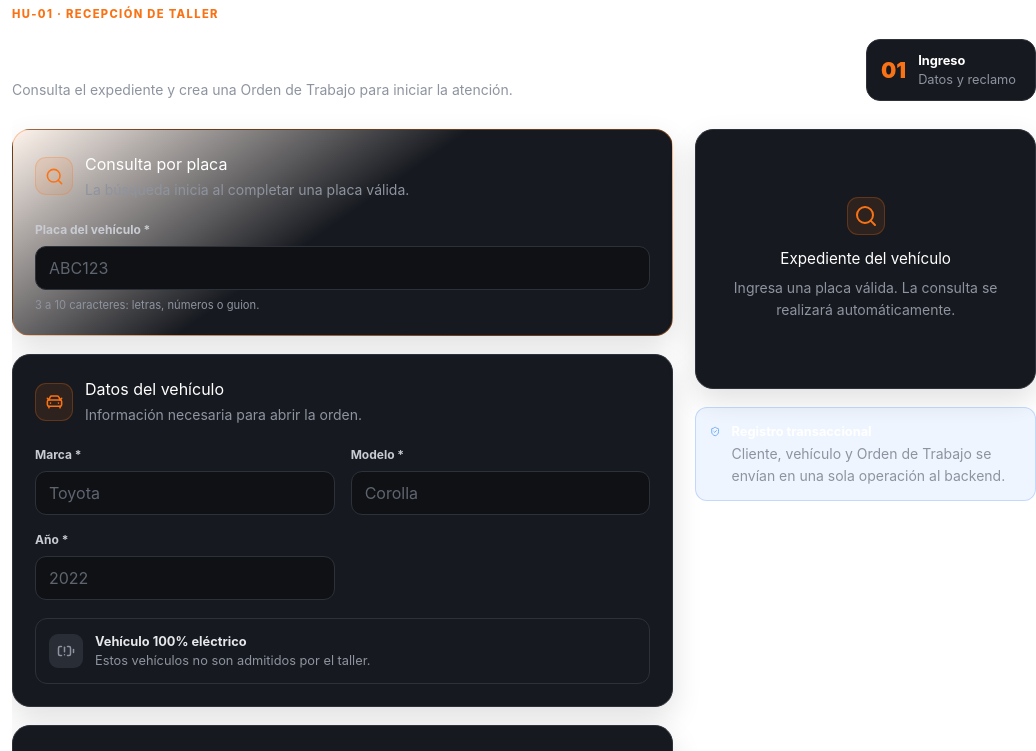
it: VehicleReceptionPage › searches, autocompletes vehicle and customer data, and shows history
Type "abc123" into the field labelled "Placa del vehículo *" at (343, 268), box [35, 246, 650, 290]
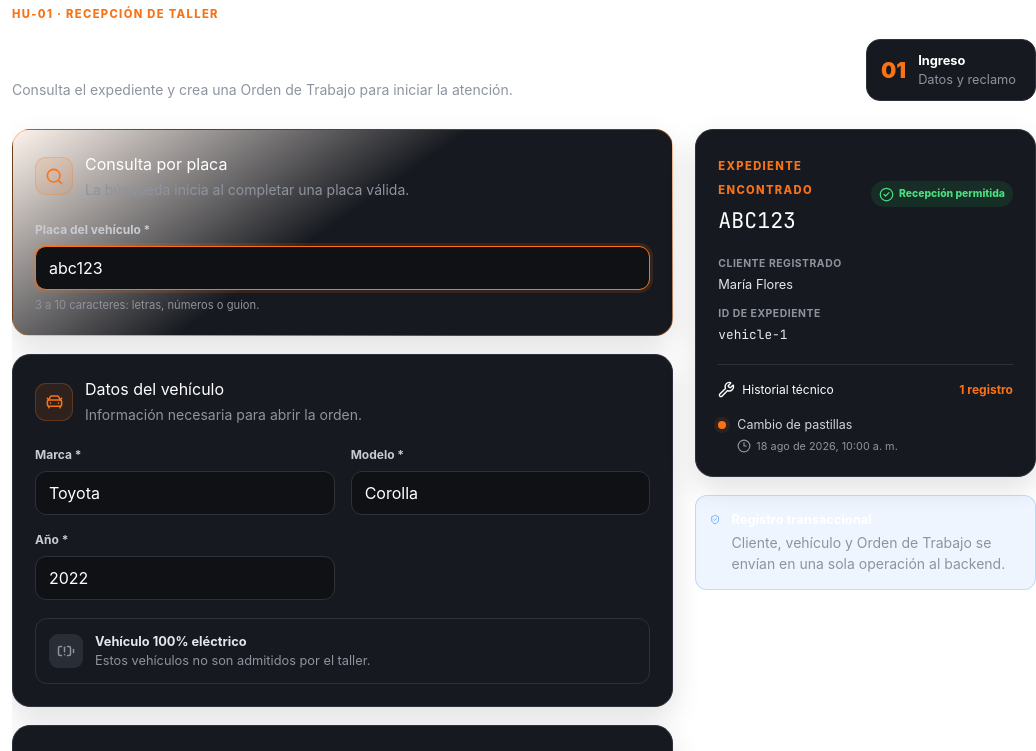
Result: the text "Cambio de pastillas" is shown at [737, 417, 852, 432]
Result: the field labelled "Marca *" holds "Toyota" at [35, 471, 335, 515]
Result: the field labelled "Modelo *" holds "Corolla" at [351, 471, 650, 515]
